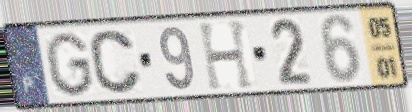2: (268, 16, 314, 87)
6: (318, 11, 364, 87)
9: (156, 24, 196, 92)
C: (87, 28, 144, 96)
G: (42, 29, 97, 99)
H: (196, 17, 257, 93)
